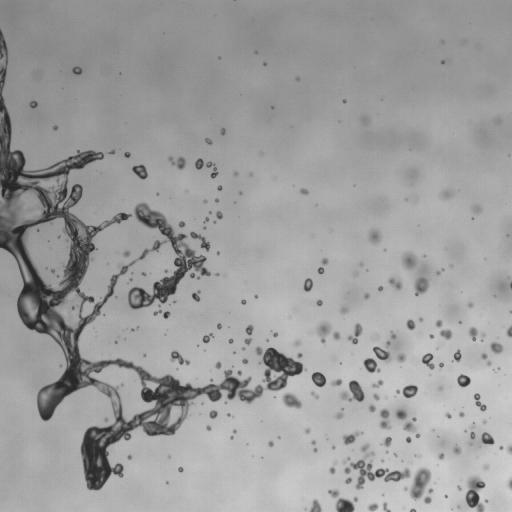droplet: (403, 467, 431, 501), (339, 380, 364, 402), (281, 391, 302, 409), (403, 417, 420, 438), (395, 384, 418, 399), (169, 350, 190, 365), (401, 251, 417, 269), (379, 407, 392, 429), (414, 277, 429, 296), (417, 353, 434, 369), (363, 357, 380, 373), (367, 228, 382, 245), (468, 326, 485, 341), (132, 164, 148, 179), (311, 371, 326, 387), (168, 156, 186, 169), (304, 499, 321, 511), (388, 277, 402, 290), (457, 373, 470, 387), (439, 189, 455, 200), (481, 432, 494, 445), (490, 342, 503, 354), (302, 278, 313, 291), (439, 329, 452, 340), (201, 332, 214, 343), (451, 349, 461, 362), (380, 436, 391, 447), (209, 130, 220, 141), (37, 160, 48, 171), (85, 215, 96, 226), (165, 215, 176, 226), (189, 239, 200, 250), (161, 241, 172, 252), (192, 245, 203, 256), (392, 256, 403, 267), (134, 260, 145, 271), (397, 266, 408, 277), (409, 267, 420, 278), (152, 270, 163, 281), (176, 278, 187, 289), (188, 279, 199, 290), (404, 281, 415, 292), (114, 282, 125, 293), (140, 305, 151, 316), (315, 311, 326, 322), (498, 334, 509, 345), (76, 336, 87, 347), (338, 336, 349, 347), (387, 345, 398, 356), (283, 347, 294, 358), (455, 363, 466, 374), (51, 369, 62, 380), (299, 369, 310, 380), (213, 373, 224, 384), (253, 373, 264, 384), (359, 380, 370, 391), (283, 382, 294, 393), (224, 418, 235, 429), (414, 420, 425, 431), (132, 425, 143, 436), (72, 452, 83, 463), (73, 460, 84, 471), (74, 467, 85, 478), (334, 469, 345, 480), (403, 476, 414, 487), (341, 489, 352, 500), (455, 491, 466, 502), (413, 497, 424, 508), (334, 407, 344, 419), (395, 409, 407, 419), (471, 204, 482, 214), (191, 290, 201, 301), (371, 379, 383, 388), (396, 353, 406, 363), (359, 116, 370, 125), (406, 319, 415, 330), (367, 502, 378, 511), (245, 324, 253, 336), (330, 378, 342, 386), (452, 444, 461, 454), (29, 100, 37, 111), (195, 158, 203, 169), (370, 332, 379, 341), (382, 502, 391, 511), (185, 159, 194, 168), (84, 161, 93, 170), (22, 163, 31, 172), (201, 166, 210, 175), (210, 202, 219, 211), (125, 205, 134, 214), (111, 206, 120, 215), (371, 220, 380, 229), (171, 226, 180, 235), (360, 231, 369, 240), (378, 238, 387, 247), (413, 250, 422, 259), (414, 255, 423, 264), (310, 272, 319, 281), (384, 283, 393, 292), (145, 286, 154, 295), (310, 319, 319, 328), (431, 326, 440, 335), (484, 335, 493, 344), (234, 337, 243, 346), (78, 349, 87, 358), (89, 354, 98, 363), (143, 363, 152, 372), (154, 369, 163, 378), (369, 371, 378, 380), (246, 381, 255, 390), (340, 382, 349, 391), (262, 388, 271, 397), (363, 393, 372, 402), (62, 394, 71, 403), (275, 398, 284, 407), (210, 400, 219, 409), (374, 401, 383, 410), (53, 405, 62, 414), (387, 412, 396, 421), (461, 415, 470, 424), (106, 416, 115, 425), (380, 428, 389, 437), (74, 435, 83, 444), (353, 437, 362, 446), (444, 449, 453, 458), (335, 463, 344, 472), (350, 468, 359, 477), (72, 66, 82, 74), (339, 306, 348, 314), (209, 410, 217, 419), (326, 505, 337, 511), (352, 505, 363, 511), (215, 211, 223, 219), (293, 339, 301, 347), (368, 404, 376, 412), (299, 188, 308, 195), (122, 250, 131, 257), (269, 330, 278, 337), (482, 504, 491, 511), (244, 338, 252, 345), (214, 361, 221, 369), (372, 393, 379, 401), (344, 477, 352, 484), (390, 330, 396, 339), (205, 138, 212, 145), (435, 320, 442, 327), (304, 427, 311, 434), (2, 33, 9, 40), (3, 100, 10, 107), (8, 114, 15, 121), (9, 119, 16, 126), (68, 168, 75, 175), (440, 183, 447, 190), (137, 196, 144, 203), (447, 197, 454, 204), (149, 204, 156, 211), (67, 206, 74, 213), (105, 213, 112, 220), (209, 213, 216, 220), (179, 226, 186, 233), (202, 261, 209, 268), (188, 266, 195, 273), (123, 271, 130, 278), (421, 271, 428, 278), (117, 274, 124, 281), (381, 280, 388, 287), (175, 282, 182, 289), (16, 283, 23, 290), (167, 293, 174, 300), (160, 303, 167, 310), (11, 307, 18, 314), (94, 314, 101, 321), (15, 317, 22, 324), (413, 319, 420, 326), (360, 322, 367, 329), (83, 323, 90, 330), (440, 323, 447, 330), (20, 324, 27, 331), (329, 325, 336, 332), (475, 325, 482, 332), (211, 327, 218, 334), (500, 327, 507, 334), (347, 328, 354, 335), (40, 332, 47, 339), (78, 332, 85, 339), (339, 332, 346, 339), (325, 333, 332, 340), (313, 334, 320, 341), (248, 342, 255, 349), (295, 345, 302, 352), (276, 346, 283, 353), (399, 347, 406, 354), (485, 348, 492, 355), (180, 351, 187, 358), (240, 351, 247, 358), (102, 353, 109, 360), (404, 353, 411, 360), (123, 355, 130, 362), (220, 363, 227, 370), (238, 363, 245, 370), (230, 370, 237, 377), (172, 372, 179, 379), (237, 374, 244, 381), (286, 375, 293, 382), (324, 375, 331, 382), (178, 379, 185, 386), (260, 380, 267, 387), (191, 381, 198, 388), (310, 383, 317, 390), (87, 384, 94, 391), (313, 385, 320, 392), (279, 387, 286, 394), (374, 387, 381, 394), (220, 388, 227, 395), (200, 392, 207, 399), (295, 393, 302, 400), (232, 394, 239, 401), (253, 396, 260, 403), (341, 399, 348, 406), (289, 405, 296, 412), (374, 405, 381, 412), (373, 409, 380, 416), (33, 411, 40, 418), (451, 411, 458, 418), (375, 415, 382, 422), (404, 415, 411, 422), (206, 417, 213, 424), (399, 418, 406, 425), (86, 420, 93, 427), (98, 421, 105, 428), (179, 421, 186, 428), (403, 429, 410, 436), (408, 431, 415, 438), (307, 432, 314, 439), (156, 433, 163, 440), (474, 434, 481, 441), (105, 444, 112, 451), (108, 460, 115, 467), (425, 463, 432, 470), (397, 465, 404, 472), (409, 469, 416, 476), (108, 472, 115, 479), (429, 473, 436, 480), (479, 474, 486, 481), (350, 478, 357, 485), (424, 482, 431, 489), (461, 486, 468, 493), (476, 488, 483, 495), (354, 489, 361, 496), (421, 489, 428, 496), (403, 490, 410, 497), (345, 494, 352, 501), (417, 495, 424, 502), (477, 496, 484, 503), (460, 499, 467, 506), (305, 501, 312, 508), (468, 506, 477, 511), (493, 118, 500, 124), (203, 216, 209, 223), (178, 221, 185, 227), (377, 285, 383, 292), (364, 292, 370, 299), (316, 299, 322, 306), (467, 301, 473, 308), (242, 358, 248, 365), (445, 411, 451, 418), (405, 436, 411, 443), (438, 452, 444, 459), (482, 464, 489, 470), (456, 485, 463, 491), (385, 340, 390, 348), (310, 439, 316, 445), (0, 195, 4, 204), (220, 128, 225, 135), (268, 440, 273, 447), (52, 125, 58, 130), (124, 152, 130, 157), (233, 171, 238, 177), (241, 299, 246, 305), (228, 338, 233, 344), (297, 352, 302, 358), (459, 411, 464, 417), (206, 425, 211, 431), (178, 466, 183, 472), (375, 507, 382, 511), (440, 59, 445, 64), (217, 185, 222, 190), (482, 419, 487, 424), (232, 429, 237, 434), (127, 454, 132, 459), (5, 42, 10, 47), (438, 55, 443, 60), (5, 69, 10, 74), (80, 70, 85, 75), (4, 74, 9, 79), (1, 92, 6, 97), (26, 105, 31, 110), (33, 106, 38, 111), (49, 121, 54, 126), (48, 127, 53, 132), (10, 129, 15, 134), (215, 129, 220, 134), (208, 135, 213, 140), (9, 146, 14, 151), (93, 147, 98, 152), (122, 147, 127, 152), (101, 148, 106, 153), (72, 150, 77, 155), (22, 152, 27, 157), (103, 153, 108, 158), (62, 154, 67, 159), (163, 154, 168, 159), (172, 156, 177, 161), (192, 156, 197, 161), (202, 159, 207, 164), (135, 160, 140, 165), (172, 164, 177, 169), (201, 164, 206, 169), (145, 167, 150, 172), (180, 167, 185, 172), (208, 167, 213, 172), (132, 173, 137, 178), (303, 184, 308, 189), (295, 185, 300, 190), (66, 188, 71, 193), (81, 189, 86, 194), (300, 193, 305, 198), (76, 199, 81, 204), (124, 209, 129, 214), (203, 211, 208, 216), (221, 211, 226, 216), (468, 211, 473, 216), (84, 220, 89, 225), (93, 221, 98, 226), (204, 221, 209, 226), (194, 229, 199, 234), (181, 237, 186, 242), (166, 240, 171, 245), (208, 241, 213, 246), (158, 245, 163, 250), (169, 247, 174, 252), (144, 253, 149, 258), (322, 253, 327, 258), (327, 258, 332, 263), (136, 259, 141, 264), (317, 262, 322, 267), (362, 263, 367, 268), (322, 264, 327, 269), (443, 264, 448, 269), (172, 265, 177, 270), (127, 266, 132, 271), (360, 266, 365, 271), (15, 270, 20, 275), (195, 270, 200, 275), (184, 271, 189, 276), (16, 273, 21, 278), (201, 274, 206, 279), (311, 278, 316, 283), (299, 281, 304, 286), (128, 283, 133, 288), (112, 286, 117, 291), (310, 286, 315, 291), (364, 287, 369, 292), (410, 288, 415, 293), (395, 289, 400, 294), (123, 290, 128, 295), (305, 290, 310, 295), (197, 292, 202, 297), (359, 292, 364, 297), (418, 292, 423, 297), (107, 296, 112, 301), (153, 297, 158, 302), (189, 297, 194, 302), (312, 297, 317, 302), (366, 297, 371, 302), (469, 297, 474, 302), (123, 298, 128, 303), (463, 299, 468, 304), (472, 302, 477, 307), (320, 303, 325, 308), (12, 304, 17, 309), (335, 305, 340, 310), (463, 305, 468, 310), (99, 306, 104, 311), (139, 306, 144, 311), (470, 306, 475, 311), (158, 312, 163, 317), (343, 312, 348, 317), (167, 314, 172, 319), (438, 315, 443, 320), (431, 319, 436, 324), (220, 322, 225, 327), (242, 323, 247, 328), (402, 323, 407, 328), (504, 324, 509, 329), (30, 328, 35, 333), (251, 328, 256, 333), (410, 328, 415, 333), (133, 329, 138, 334), (450, 332, 455, 337), (244, 333, 249, 338), (249, 333, 254, 338), (475, 334, 480, 339), (356, 335, 361, 340), (385, 335, 390, 340), (439, 335, 444, 340), (467, 335, 472, 340), (389, 338, 394, 343), (494, 338, 499, 343), (240, 341, 245, 346), (373, 341, 378, 346), (53, 342, 58, 347), (267, 342, 272, 347), (379, 344, 384, 349), (169, 346, 174, 351), (261, 347, 266, 352), (476, 352, 481, 357), (111, 355, 116, 360), (417, 355, 422, 360), (293, 356, 298, 361), (373, 356, 378, 361), (173, 358, 178, 363), (481, 358, 486, 363), (211, 359, 216, 364), (132, 360, 137, 365), (400, 361, 405, 366), (421, 362, 426, 367), (301, 363, 306, 368), (490, 363, 495, 368), (211, 366, 216, 371), (361, 366, 366, 371), (372, 370, 377, 375), (322, 371, 327, 376), (464, 371, 469, 376), (350, 375, 355, 380), (469, 378, 474, 383), (308, 379, 313, 384), (382, 380, 387, 385), (409, 380, 414, 385), (404, 381, 409, 386), (323, 382, 328, 387), (378, 384, 383, 389), (464, 384, 469, 389), (458, 385, 463, 390), (372, 387, 377, 392), (416, 387, 421, 392), (415, 390, 420, 395), (398, 391, 403, 396), (101, 393, 106, 398), (378, 393, 383, 398), (309, 395, 314, 400), (408, 396, 413, 401), (478, 397, 483, 402), (226, 398, 231, 403), (352, 398, 357, 403), (470, 398, 475, 403), (474, 405, 479, 410), (335, 407, 340, 412), (461, 407, 466, 412), (204, 412, 209, 417), (213, 416, 218, 421), (443, 416, 448, 421), (336, 418, 341, 423), (303, 423, 308, 428), (357, 426, 362, 431), (299, 427, 304, 432), (128, 429, 133, 434), (174, 429, 179, 434), (345, 430, 350, 435), (431, 431, 436, 436), (465, 431, 470, 436), (491, 434, 496, 439), (410, 435, 415, 440), (119, 436, 124, 441), (272, 438, 277, 443), (339, 438, 344, 443), (401, 438, 406, 443), (389, 439, 394, 444), (263, 441, 268, 446), (314, 442, 319, 447), (347, 442, 352, 447), (457, 442, 462, 447), (485, 442, 490, 447), (449, 443, 454, 448), (502, 443, 507, 448), (309, 444, 314, 449), (265, 445, 270, 450), (382, 445, 387, 450), (502, 446, 507, 451), (366, 447, 371, 452), (437, 448, 442, 453), (387, 451, 392, 456), (382, 453, 387, 458), (433, 453, 438, 458), (443, 453, 448, 458), (352, 458, 357, 463), (437, 458, 442, 463), (327, 462, 332, 467), (344, 462, 349, 467), (488, 465, 493, 470), (324, 466, 329, 471), (388, 467, 393, 472), (370, 468, 375, 473), (121, 469, 126, 474), (326, 471, 331, 476), (344, 473, 349, 478), (373, 476, 378, 481), (388, 479, 393, 484), (329, 485, 334, 490), (452, 486, 457, 491), (504, 486, 509, 491), (90, 488, 95, 493), (326, 493, 331, 498), (368, 499, 373, 504), (424, 502, 429, 507), (386, 504, 391, 509), (217, 323, 221, 329), (438, 385, 442, 391), (104, 417, 108, 423), (0, 246, 3, 253), (295, 76, 299, 81), (214, 198, 219, 202), (216, 250, 220, 255), (141, 272, 146, 276), (214, 272, 219, 276), (419, 317, 423, 322), (429, 334, 434, 338), (499, 445, 503, 450), (393, 452, 397, 457), (380, 458, 384, 463), (263, 62, 267, 66), (342, 99, 346, 103), (238, 191, 242, 195), (203, 199, 207, 203), (359, 262, 363, 266), (449, 264, 453, 268), (254, 294, 258, 298), (331, 445, 335, 449), (313, 448, 317, 452), (241, 347, 246, 350), (508, 336, 511, 341), (365, 508, 370, 511), (453, 508, 458, 511), (270, 106, 274, 109), (249, 172, 252, 176), (184, 189, 188, 192), (156, 192, 159, 196), (208, 210, 211, 214), (57, 234, 60, 238), (172, 300, 176, 303), (458, 320, 461, 324), (266, 338, 269, 342), (436, 346, 439, 350), (232, 351, 236, 354), (143, 353, 146, 357), (497, 366, 500, 370), (120, 383, 123, 387), (384, 395, 387, 399), (230, 435, 233, 439), (468, 442, 472, 445), (165, 481, 169, 484), (444, 494, 447, 498), (484, 499, 488, 502), (457, 504, 460, 508), (441, 40, 444, 43), (254, 50, 257, 53), (218, 56, 221, 59), (213, 220, 216, 223), (203, 226, 206, 229), (383, 248, 386, 251), (423, 254, 426, 257), (129, 278, 132, 281), (288, 315, 291, 318), (114, 340, 117, 343), (59, 364, 62, 367), (224, 401, 227, 404), (277, 436, 280, 439), (385, 450, 388, 453), (381, 493, 384, 496), (7, 59, 10, 62), (264, 59, 267, 62), (437, 60, 440, 63), (444, 60, 447, 63), (259, 61, 262, 64), (440, 63, 443, 66), (71, 64, 74, 67), (78, 64, 81, 67), (263, 65, 266, 68), (73, 73, 76, 76), (34, 98, 37, 101), (345, 98, 348, 101), (339, 100, 342, 103), (343, 102, 346, 105), (272, 103, 275, 106), (268, 107, 271, 110), (221, 124, 224, 127), (56, 128, 59, 131), (224, 129, 227, 132), (204, 134, 207, 137), (220, 134, 223, 137), (204, 142, 207, 145), (107, 148, 110, 151), (79, 149, 82, 152), (121, 152, 124, 155), (109, 153, 112, 156), (128, 155, 131, 158), (124, 156, 127, 159), (53, 160, 56, 163), (211, 160, 214, 163), (168, 161, 171, 164), (214, 163, 217, 166), (192, 164, 195, 167), (230, 170, 233, 173), (215, 174, 218, 177), (144, 177, 147, 180), (77, 181, 80, 184), (214, 185, 217, 188), (221, 185, 224, 188), (153, 190, 156, 193), (217, 190, 220, 193), (158, 191, 161, 194), (239, 194, 242, 197), (156, 195, 159, 198), (205, 196, 208, 199), (218, 198, 221, 201), (213, 201, 216, 204), (472, 214, 475, 217), (468, 215, 471, 218), (202, 217, 205, 220), (181, 218, 184, 221), (470, 219, 473, 222), (184, 221, 187, 224), (212, 223, 215, 226), (200, 233, 203, 236), (208, 247, 211, 250), (218, 249, 221, 252), (315, 266, 318, 269), (437, 267, 440, 270), (16, 268, 19, 271), (142, 269, 145, 272), (145, 271, 148, 274), (440, 271, 443, 274), (219, 272, 222, 275), (433, 272, 436, 275), (318, 273, 321, 276), (140, 274, 143, 277), (437, 274, 440, 277), (215, 275, 218, 278), (377, 283, 380, 286), (507, 284, 510, 287), (382, 287, 385, 290), (376, 290, 379, 293), (257, 294, 260, 297), (189, 295, 192, 298), (414, 295, 417, 298), (241, 296, 244, 299), (255, 297, 258, 300), (237, 299, 240, 302), (245, 301, 248, 304), (239, 303, 242, 306), (317, 305, 320, 308), (508, 307, 511, 310), (508, 312, 511, 315), (421, 315, 424, 318), (460, 318, 463, 321), (457, 323, 460, 326), (213, 324, 216, 327), (132, 325, 135, 328), (127, 327, 130, 330), (137, 327, 140, 330), (163, 329, 166, 332), (272, 329, 275, 332), (130, 330, 133, 333), (392, 330, 395, 333), (277, 332, 280, 335), (426, 334, 429, 337), (163, 335, 166, 338), (200, 335, 203, 338), (228, 335, 231, 338), (275, 335, 278, 338), (115, 337, 118, 340), (431, 337, 434, 340), (232, 338, 235, 341), (111, 340, 114, 343), (200, 340, 203, 343), (225, 340, 228, 343), (472, 340, 475, 343), (203, 342, 206, 345), (113, 343, 116, 346), (193, 343, 196, 346), (353, 343, 356, 346), (235, 349, 238, 352), (453, 349, 456, 352), (142, 350, 145, 353), (229, 350, 232, 353), (459, 350, 462, 353), (423, 351, 426, 354), (430, 351, 433, 354), (145, 353, 148, 356), (233, 353, 236, 356), (451, 356, 454, 359), (459, 357, 462, 360), (453, 359, 456, 362), (239, 360, 242, 363), (247, 360, 250, 363), (336, 360, 339, 363), (341, 361, 344, 364), (188, 362, 191, 365), (443, 362, 446, 365), (499, 365, 502, 368), (441, 366, 444, 369), (494, 368, 497, 371), (313, 369, 316, 372), (490, 370, 493, 373), (456, 373, 459, 376), (455, 382, 458, 385), (307, 391, 310, 394), (393, 391, 396, 394), (485, 405, 488, 408), (483, 409, 486, 412), (225, 410, 228, 413), (341, 410, 344, 413), (480, 410, 483, 413), (463, 411, 466, 414), (216, 412, 219, 415), (229, 412, 232, 415), (224, 414, 227, 417), (228, 415, 231, 418), (415, 416, 418, 419), (460, 416, 463, 419), (449, 417, 452, 420), (485, 417, 488, 420), (469, 420, 472, 423), (474, 421, 477, 424), (203, 425, 206, 428), (210, 425, 213, 428), (235, 427, 238, 430), (471, 428, 474, 431), (205, 429, 208, 432), (486, 430, 489, 433), (230, 432, 233, 435), (279, 433, 282, 436), (390, 435, 393, 438), (280, 436, 283, 439), (229, 439, 232, 442), (328, 444, 331, 447), (316, 447, 319, 450), (334, 447, 337, 450), (330, 448, 333, 451), (498, 449, 501, 452), (395, 451, 398, 454), (415, 451, 418, 454), (125, 452, 128, 455), (261, 453, 264, 456), (391, 454, 394, 457), (131, 455, 134, 458), (411, 455, 414, 458), (176, 464, 179, 467), (182, 466, 185, 469), (382, 466, 385, 469), (177, 471, 180, 474), (167, 478, 170, 481), (162, 480, 165, 483), (379, 491, 382, 494), (446, 492, 449, 495), (442, 496, 445, 499), (410, 505, 413, 508), (413, 506, 416, 509), (407, 507, 410, 510), (168, 454, 170, 458), (471, 217, 474, 219), (506, 234, 509, 236), (493, 295, 496, 297), (509, 310, 511, 313), (103, 313, 105, 316), (197, 344, 199, 347), (176, 367, 178, 370), (273, 396, 276, 398), (201, 402, 203, 405), (432, 428, 434, 431), (464, 429, 466, 432), (401, 459, 403, 462), (509, 155, 511, 158), (509, 233, 511, 236), (301, 509, 304, 511), (415, 509, 418, 511), (448, 509, 451, 511), (119, 72, 121, 74), (353, 184, 355, 186), (234, 201, 236, 203), (366, 269, 368, 271), (131, 272, 133, 274), (115, 296, 117, 298), (164, 333, 166, 335), (203, 349, 205, 351), (339, 362, 341, 364), (326, 438, 328, 440), (246, 443, 248, 445), (261, 456, 263, 458), (0, 192, 1, 195), (48, 240, 49, 242), (437, 435, 438, 437), (451, 508, 452, 510), (228, 326, 229, 327), (429, 374, 430, 375)
ligament: (190, 231, 210, 252), (372, 346, 393, 363), (347, 322, 362, 344), (342, 430, 363, 445), (474, 393, 486, 411), (206, 161, 218, 178), (44, 266, 59, 278), (317, 258, 328, 274), (423, 487, 433, 504), (328, 459, 338, 474), (481, 352, 491, 366), (469, 421, 476, 439), (404, 194, 418, 202), (310, 390, 319, 399), (505, 477, 511, 490), (506, 324, 511, 337), (435, 268, 444, 275), (506, 443, 511, 455), (106, 149, 115, 154), (130, 326, 139, 331), (438, 362, 443, 371), (226, 413, 234, 418), (414, 454, 421, 457), (409, 508, 416, 511), (492, 369, 496, 373), (510, 281, 511, 290)
